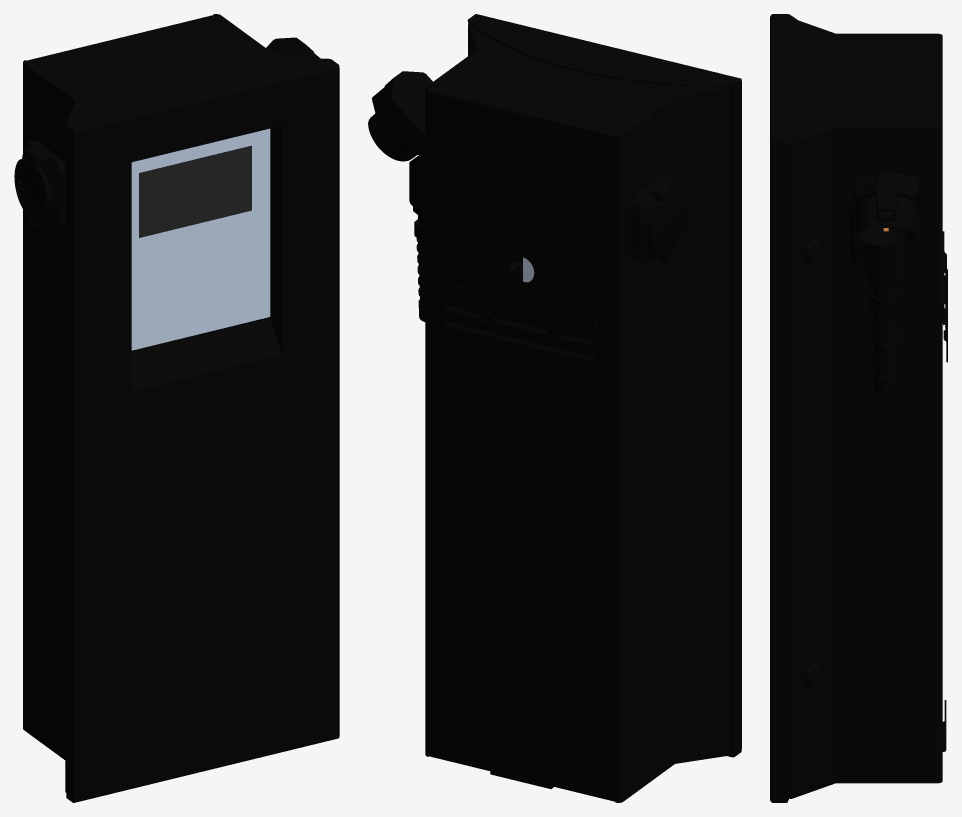
File: power_unit.glb
3 renders of one model, left to right at view 1: azimuth 30°, elevation 25°; view 2: azimuth 150°, elevation 25°; view 3: azimuth 270°, elevation 25°, orthographic.
Visible parts, largest first — view 1: Object_8, Object_18, Object_9, Object_3, Object_17; view 2: Object_18, Object_8, Object_17, Object_19; view 3: Object_18, Object_8, Object_19, Object_17.
Boxes of the visible parts, x1,y1,x2,y2 form: Object_8: (25, 37, 339, 802); Object_18: (23, 14, 320, 792); Object_9: (131, 128, 270, 350); Object_3: (139, 145, 251, 237); Object_17: (14, 140, 65, 229); Object_18: (368, 24, 730, 802); Object_8: (389, 14, 741, 788); Object_17: (417, 159, 684, 263); Object_19: (381, 79, 425, 321); Object_18: (789, 20, 942, 798); Object_8: (770, 14, 947, 802); Object_19: (852, 176, 919, 393); Object_17: (850, 199, 922, 262).
Bounding box in the file's own units: 411 × 858 × 209.
